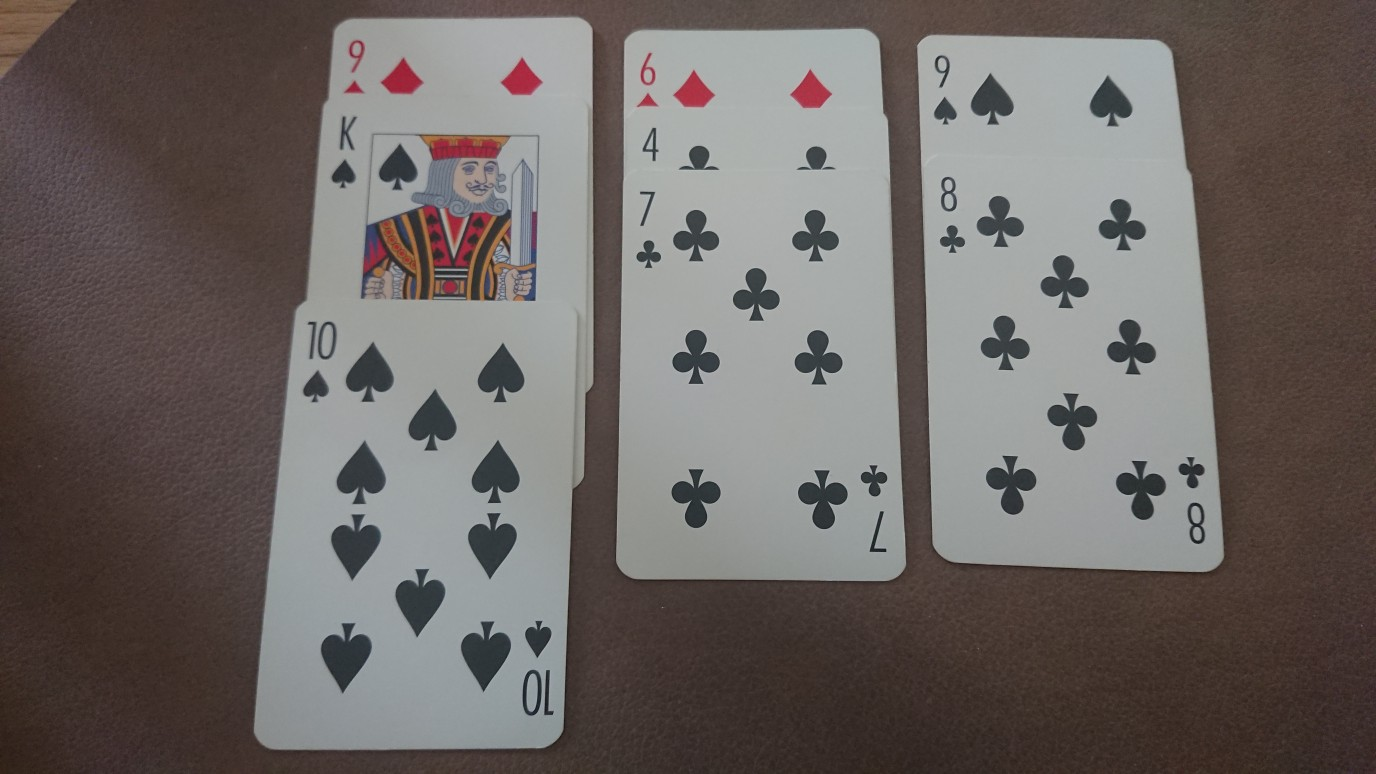10S: (298, 316, 341, 407)
6D: (634, 49, 663, 106)
7C: (634, 186, 663, 272)
8C: (936, 172, 968, 259)
9D: (340, 36, 371, 94)
9S: (931, 52, 960, 129)
KS: (328, 110, 362, 194)
